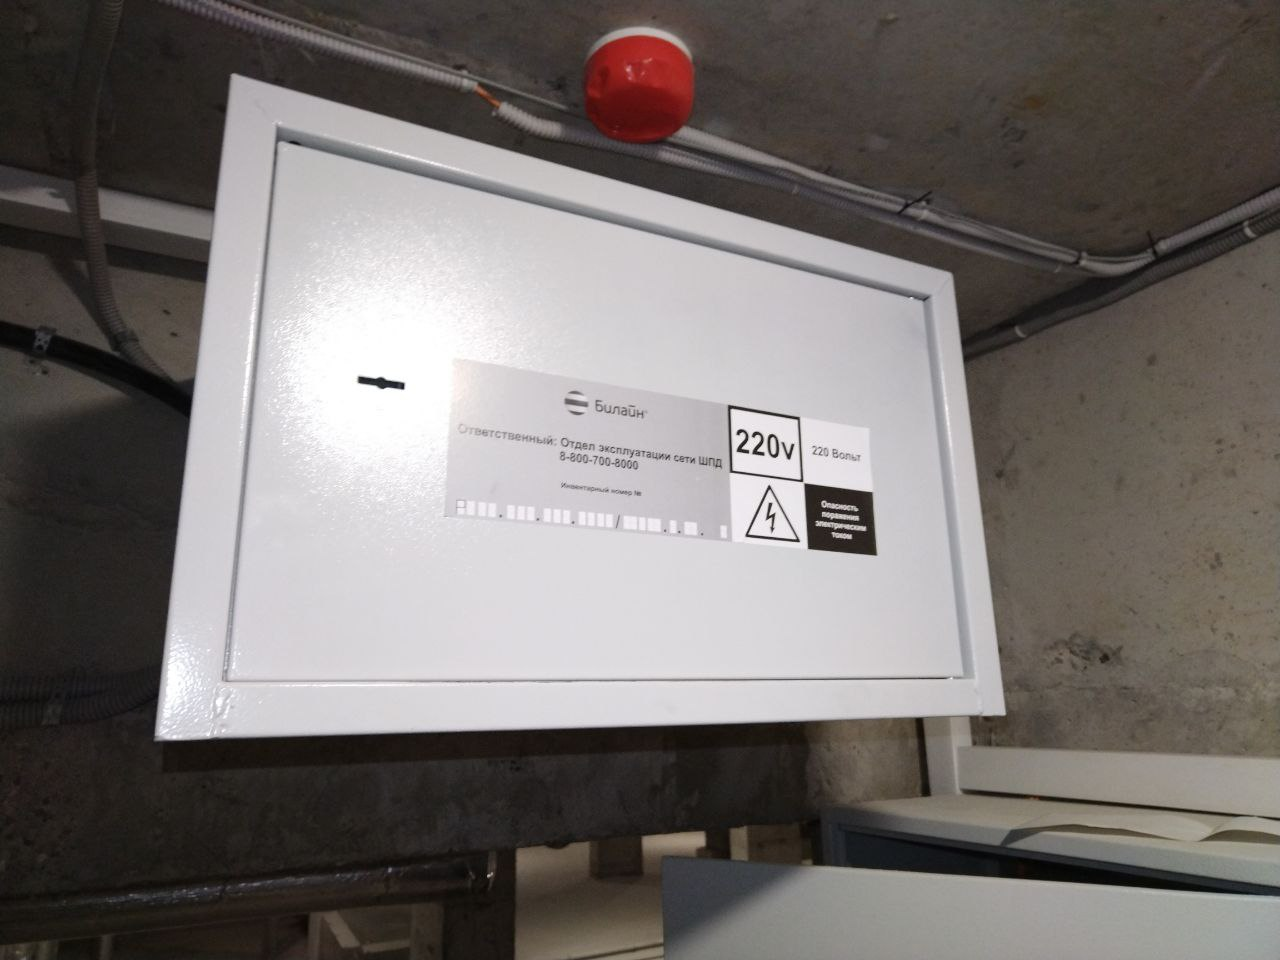shta-7m: (140, 65, 1016, 757)
